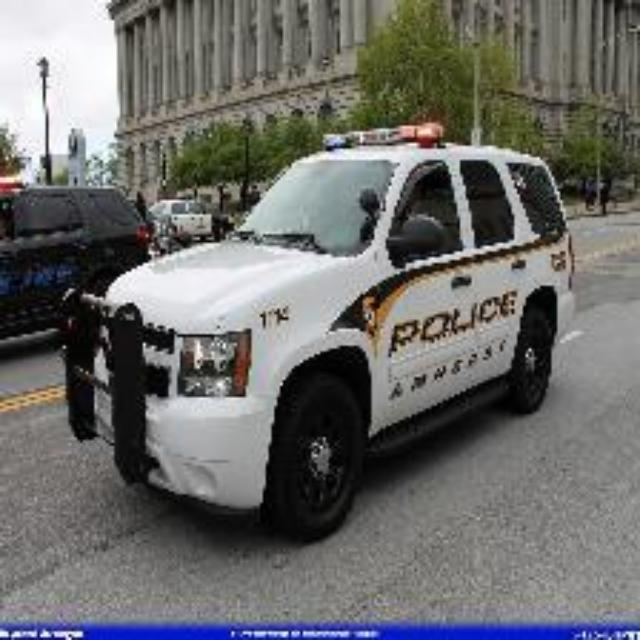emergency: (79, 125, 579, 522), (1, 162, 138, 346)
